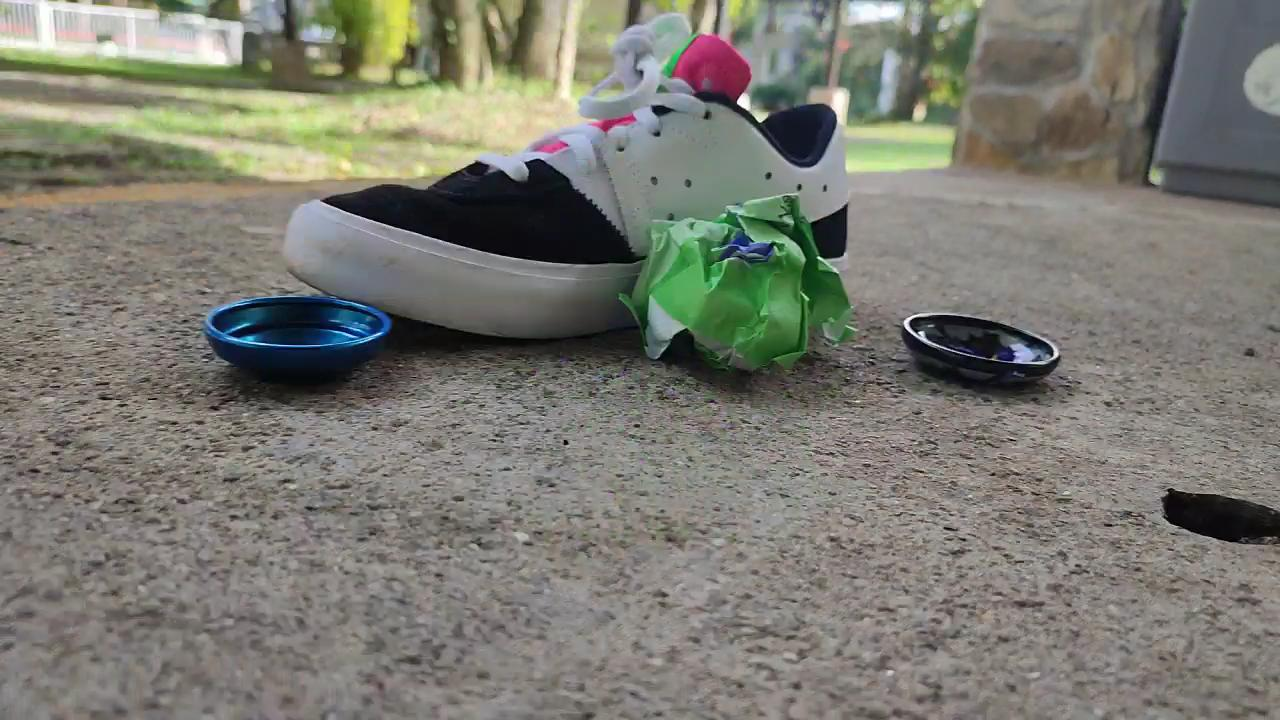Paper: (611, 170, 866, 388)
